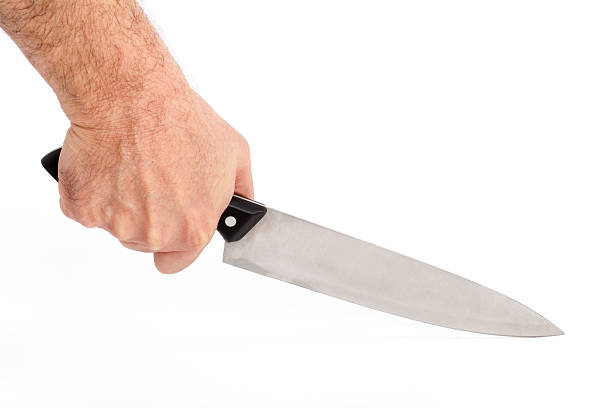knife: (40, 145, 568, 339)
